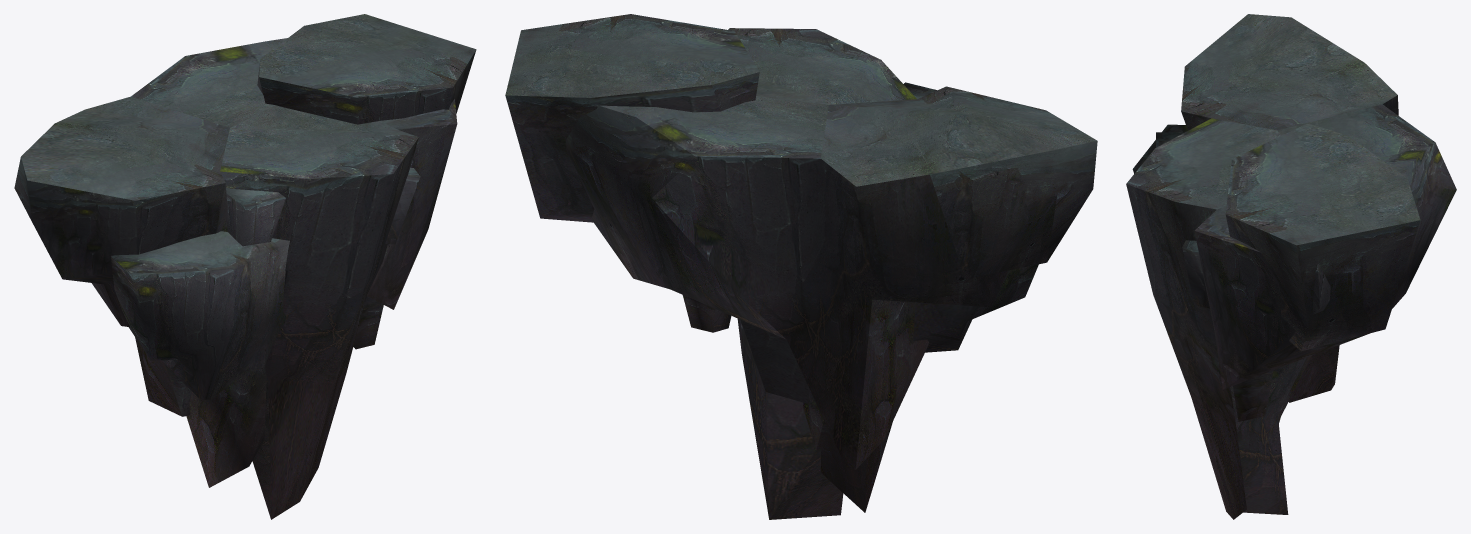
File: yw_museyulin_fengbianshi02.FBX
3 renders of one model, left to right at view 1: azimuth 30°, elevation 25°; view 2: azimuth 150°, elevation 25°; view 3: azimuth 270°, elevation 25°, orthographic. The views are drawn at different scales.
Visible parts, largest first — view 1: yw_museyulin_fengbianshi02; view 2: yw_museyulin_fengbianshi02; view 3: yw_museyulin_fengbianshi02.
Boxes of the visible parts, box(x1,y1,x2,y2) form: yw_museyulin_fengbianshi02: box(14, 14, 476, 519); yw_museyulin_fengbianshi02: box(505, 14, 1097, 519); yw_museyulin_fengbianshi02: box(1126, 14, 1456, 519).
Bounding box in the file's own units: 2361 × 1933 × 1440.
